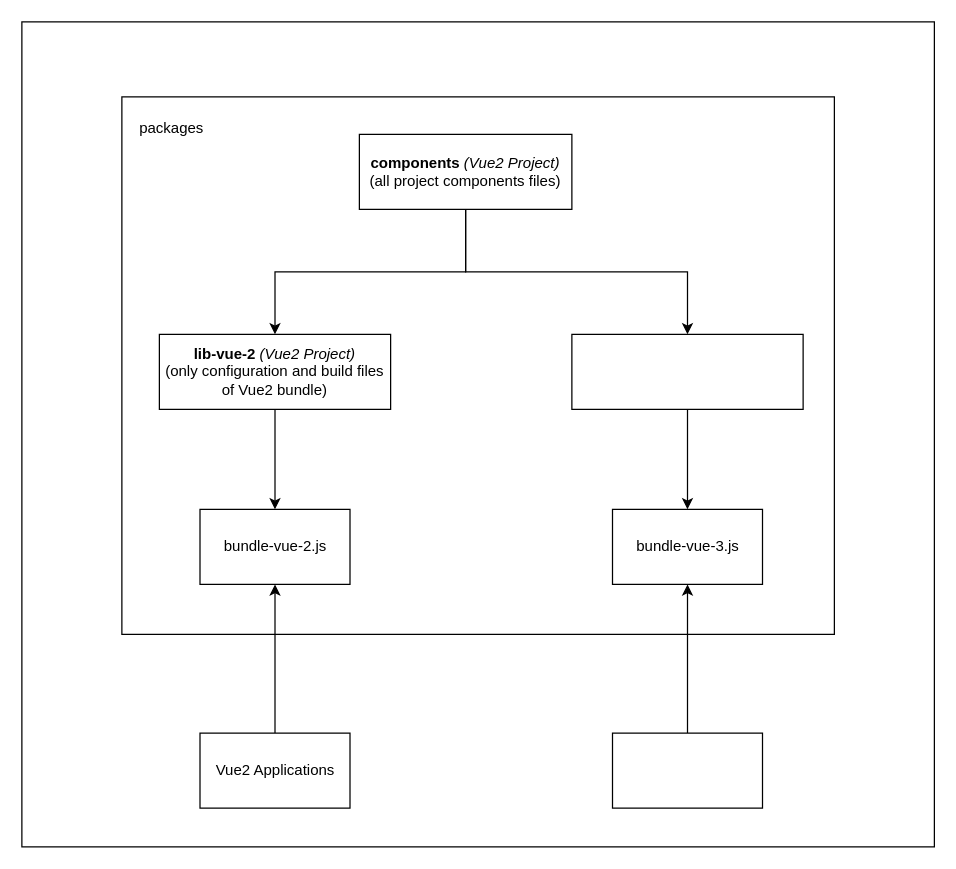
Some shapes in this 956 by 869 pixel diagram are drawn without their labels. The box of each missing label's shape, as (x1, y1, x2, y2) in pixels:
lib-vue-3 (Vue3 Project) (only configuration and build files of Vue3 bundle): (571, 333, 803, 409)
Vue3 Applications: (611, 732, 762, 808)
